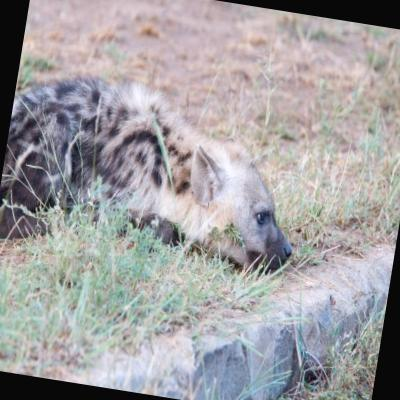hyenas: (0, 41, 380, 325)
